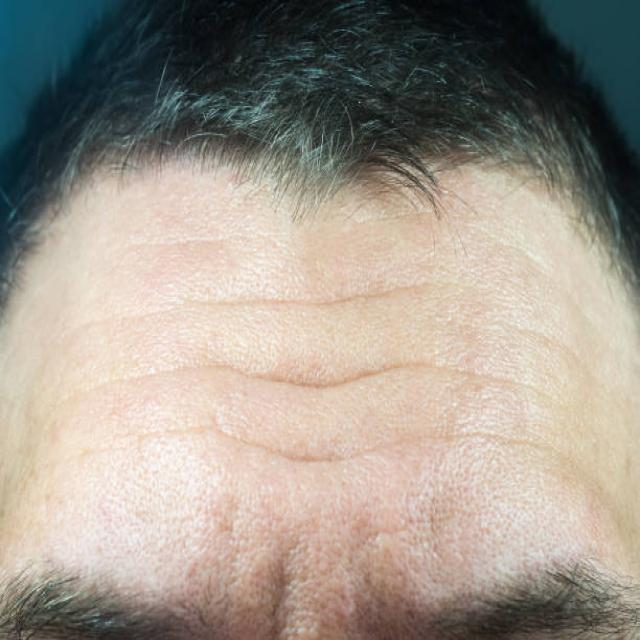Dry-Skin: (110, 222, 526, 548)
